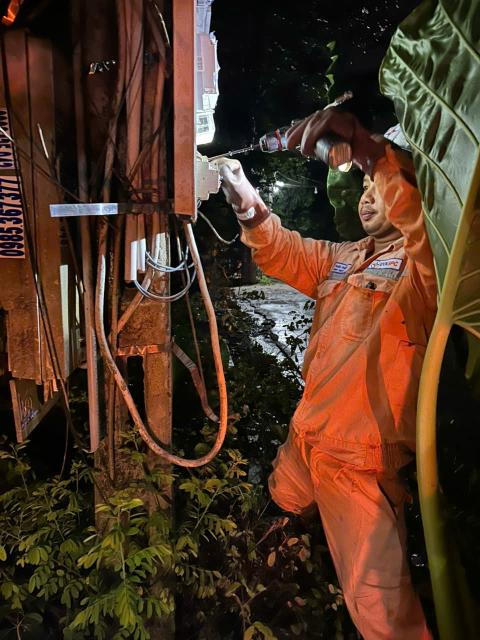gloves: (291, 108, 396, 177), (211, 146, 274, 238)
helmet: (371, 106, 434, 175)
